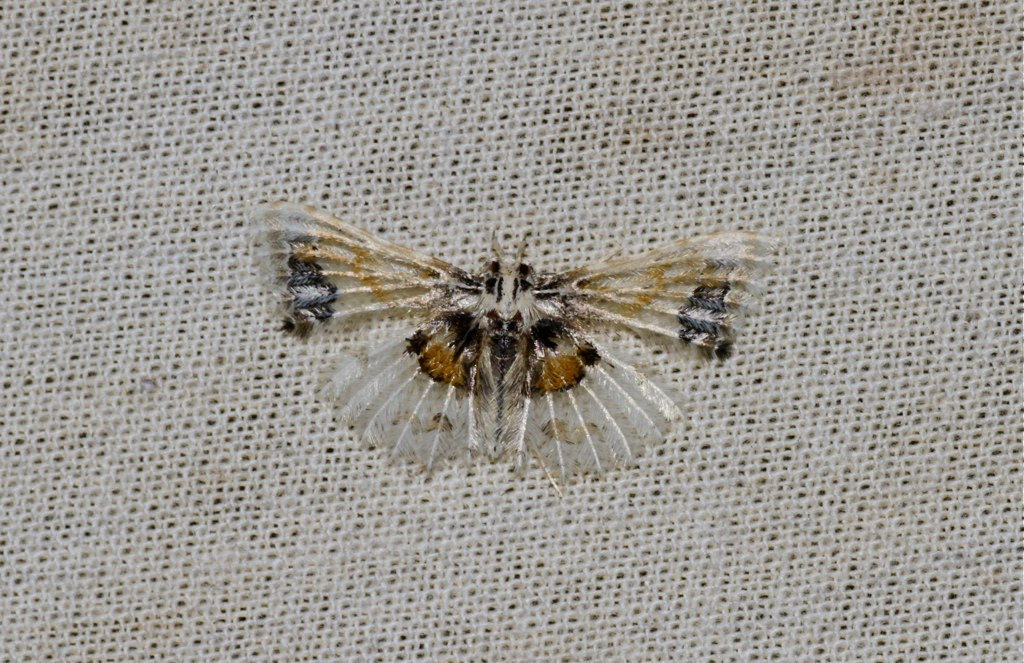Alucitidae: (257, 188, 792, 507)
moth: (259, 190, 794, 509)
